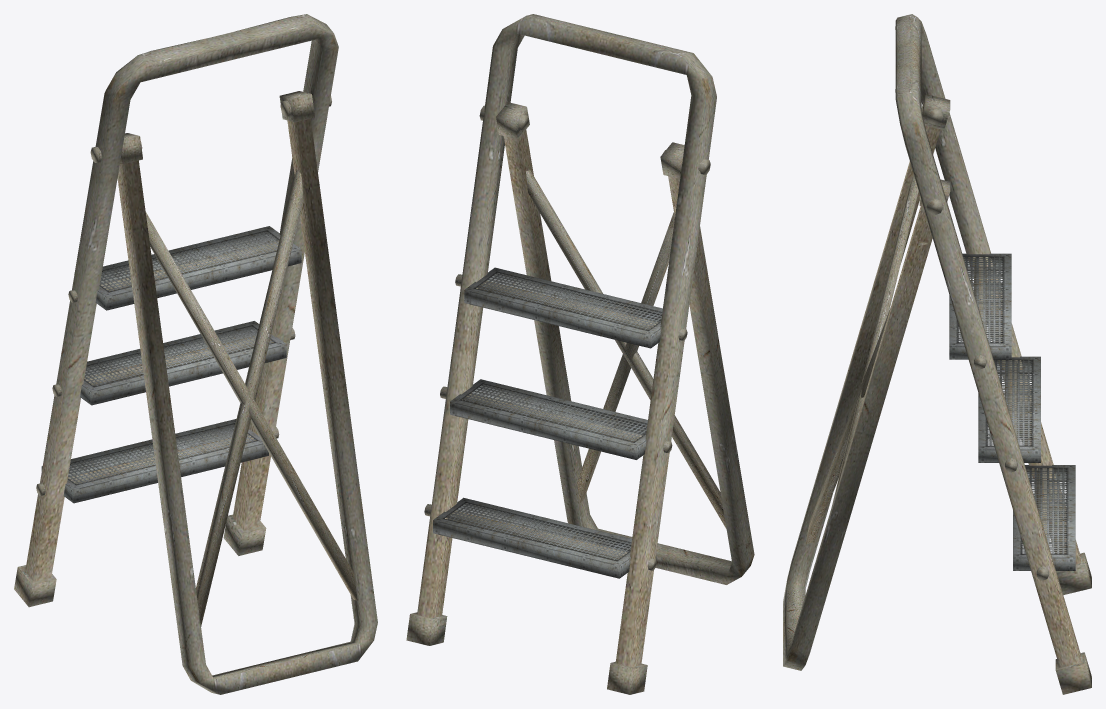
The model's file is ladder_small.fbx.
3 views of the same model, side by side, from view 1: azimuth 30°, elevation 25°; view 2: azimuth 150°, elevation 25°; view 3: azimuth 270°, elevation 25° (orthographic). The views are drawn at different scales.
Parts seen in each view (by area): view 1: Mesh; view 2: Mesh; view 3: Mesh.
Part boxes in pixels (left/top/right/bottom): Mesh: left=14, top=14, right=377, bottom=694; Mesh: left=406, top=14, right=754, bottom=694; Mesh: left=783, top=14, right=1091, bottom=694.
Bounding box in the file's own units: 48.15 × 117 × 55.78.
